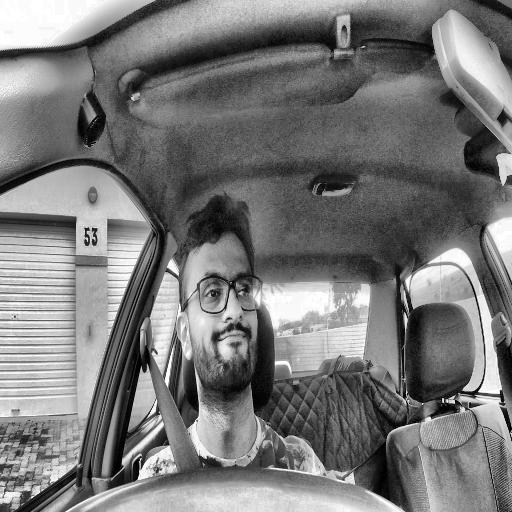awake: (174, 191, 263, 410)
